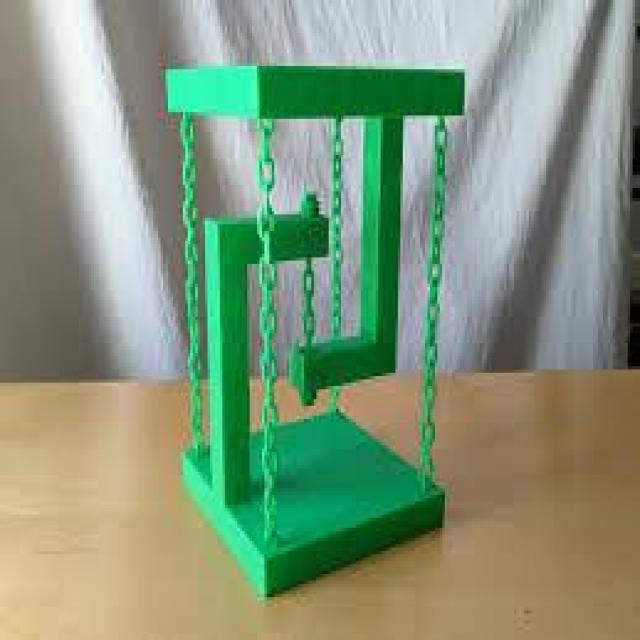Without deffect: (152, 46, 480, 594)
